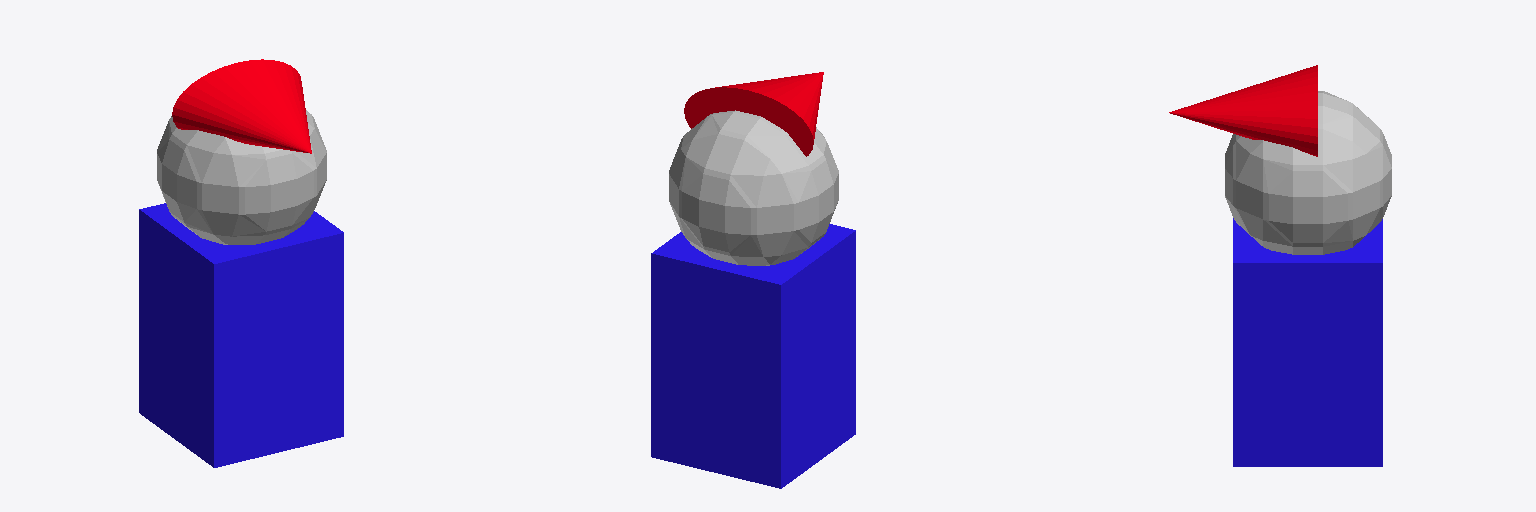
3 views of the same model, side by side, from view 1: azimuth 30°, elevation 25°; view 2: azimuth 150°, elevation 25°; view 3: azimuth 270°, elevation 25° (orthographic).
Parts seen in each view (by area): view 1: Cube, Mball, 圓錐體; view 2: Cube, Mball, 圓錐體; view 3: Cube, Mball, 圓錐體.
Part boxes in pixels (x1,y1,x2,y2): Cube: (139,203,343,467); Mball: (157,110,326,244); 圓錐體: (172,59,311,153); Cube: (651,224,855,488); Mball: (669,110,838,265); 圓錐體: (684,72,823,156); Cube: (1233,218,1382,466); Mball: (1225,91,1391,254); 圓錐體: (1169,65,1317,156).
Size of the model in its own units: 2.23 by 5.28 by 2.99.
Materials: 3 (3 with a texture image).